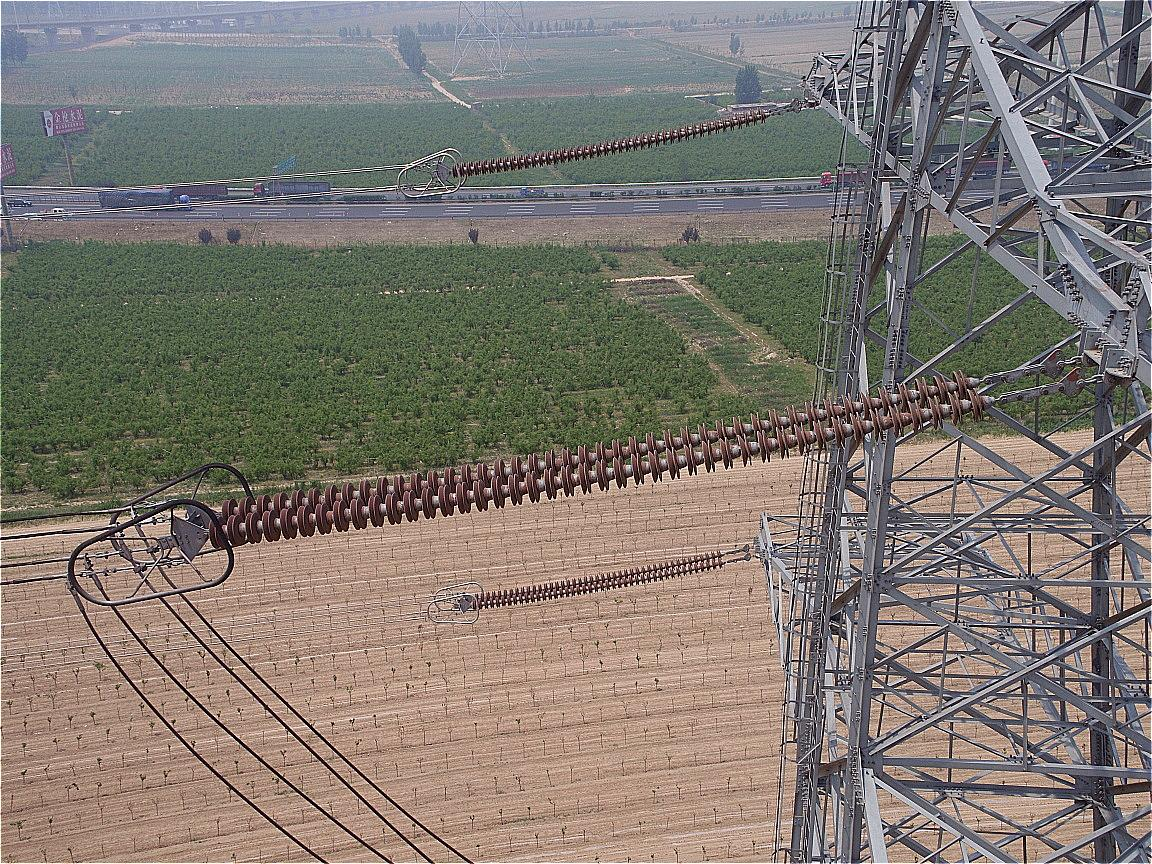insultor2: (208, 368, 985, 553), (452, 105, 769, 179), (472, 551, 726, 616)
